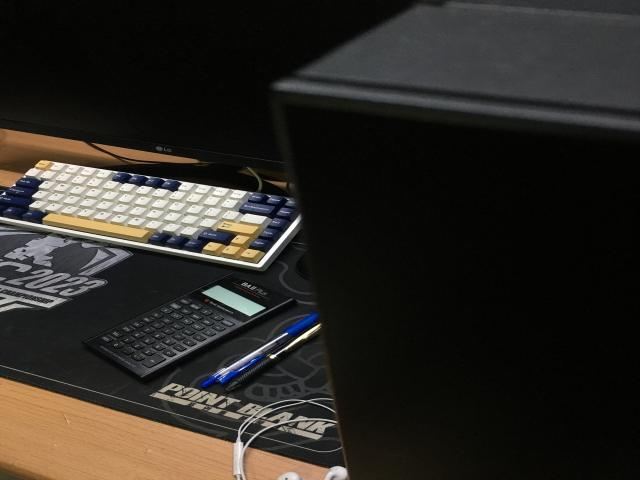Pen: (196, 313, 319, 394)
wire: (231, 400, 346, 480)
